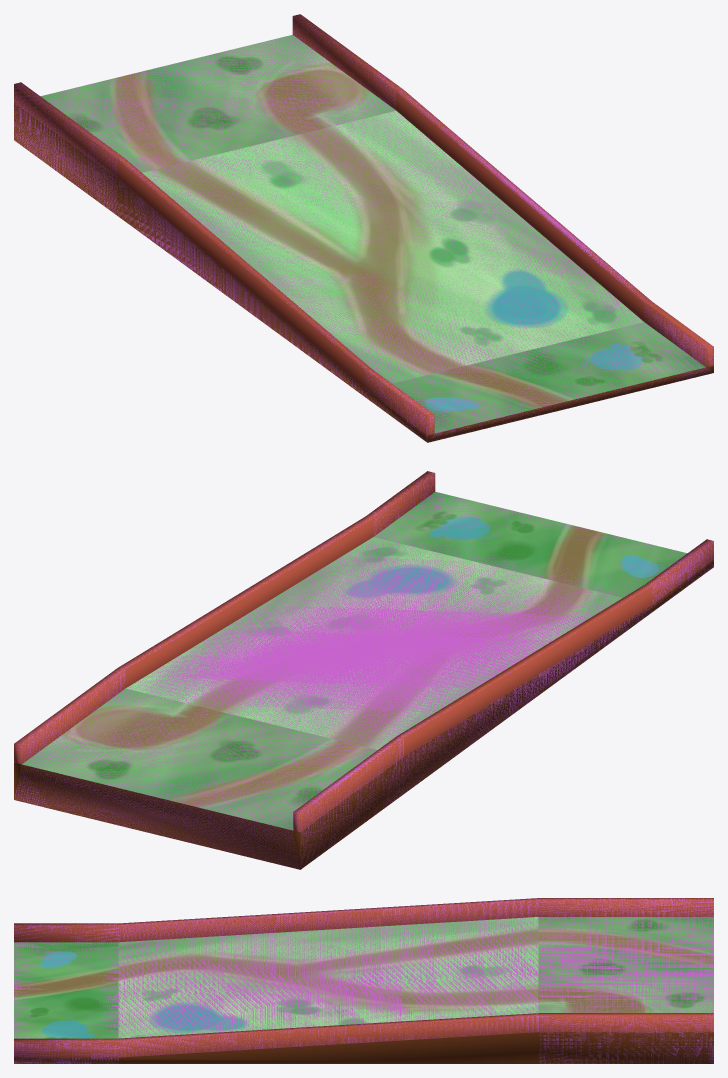
Rendered from stage01.fbx.
3 views of the same model, one above another, from view 1: azimuth 30°, elevation 25°; view 2: azimuth 150°, elevation 25°; view 3: azimuth 270°, elevation 25° (orthographic). The views are drawn at different scales.
Visible parts, largest first — view 1: stage01, CoL_stage01; view 2: stage01, CoL_stage01; view 3: stage01, CoL_stage01.
Boxes of the visible parts, <box> form: stage01: <box>14,14,713,442</box>; CoL_stage01: <box>14,14,713,441</box>; stage01: <box>14,471,713,869</box>; CoL_stage01: <box>14,472,713,869</box>; stage01: <box>14,898,713,1063</box>; CoL_stage01: <box>14,898,713,1063</box>.
Bounding box in the file's own units: 8000 × 20000 × 1500.
